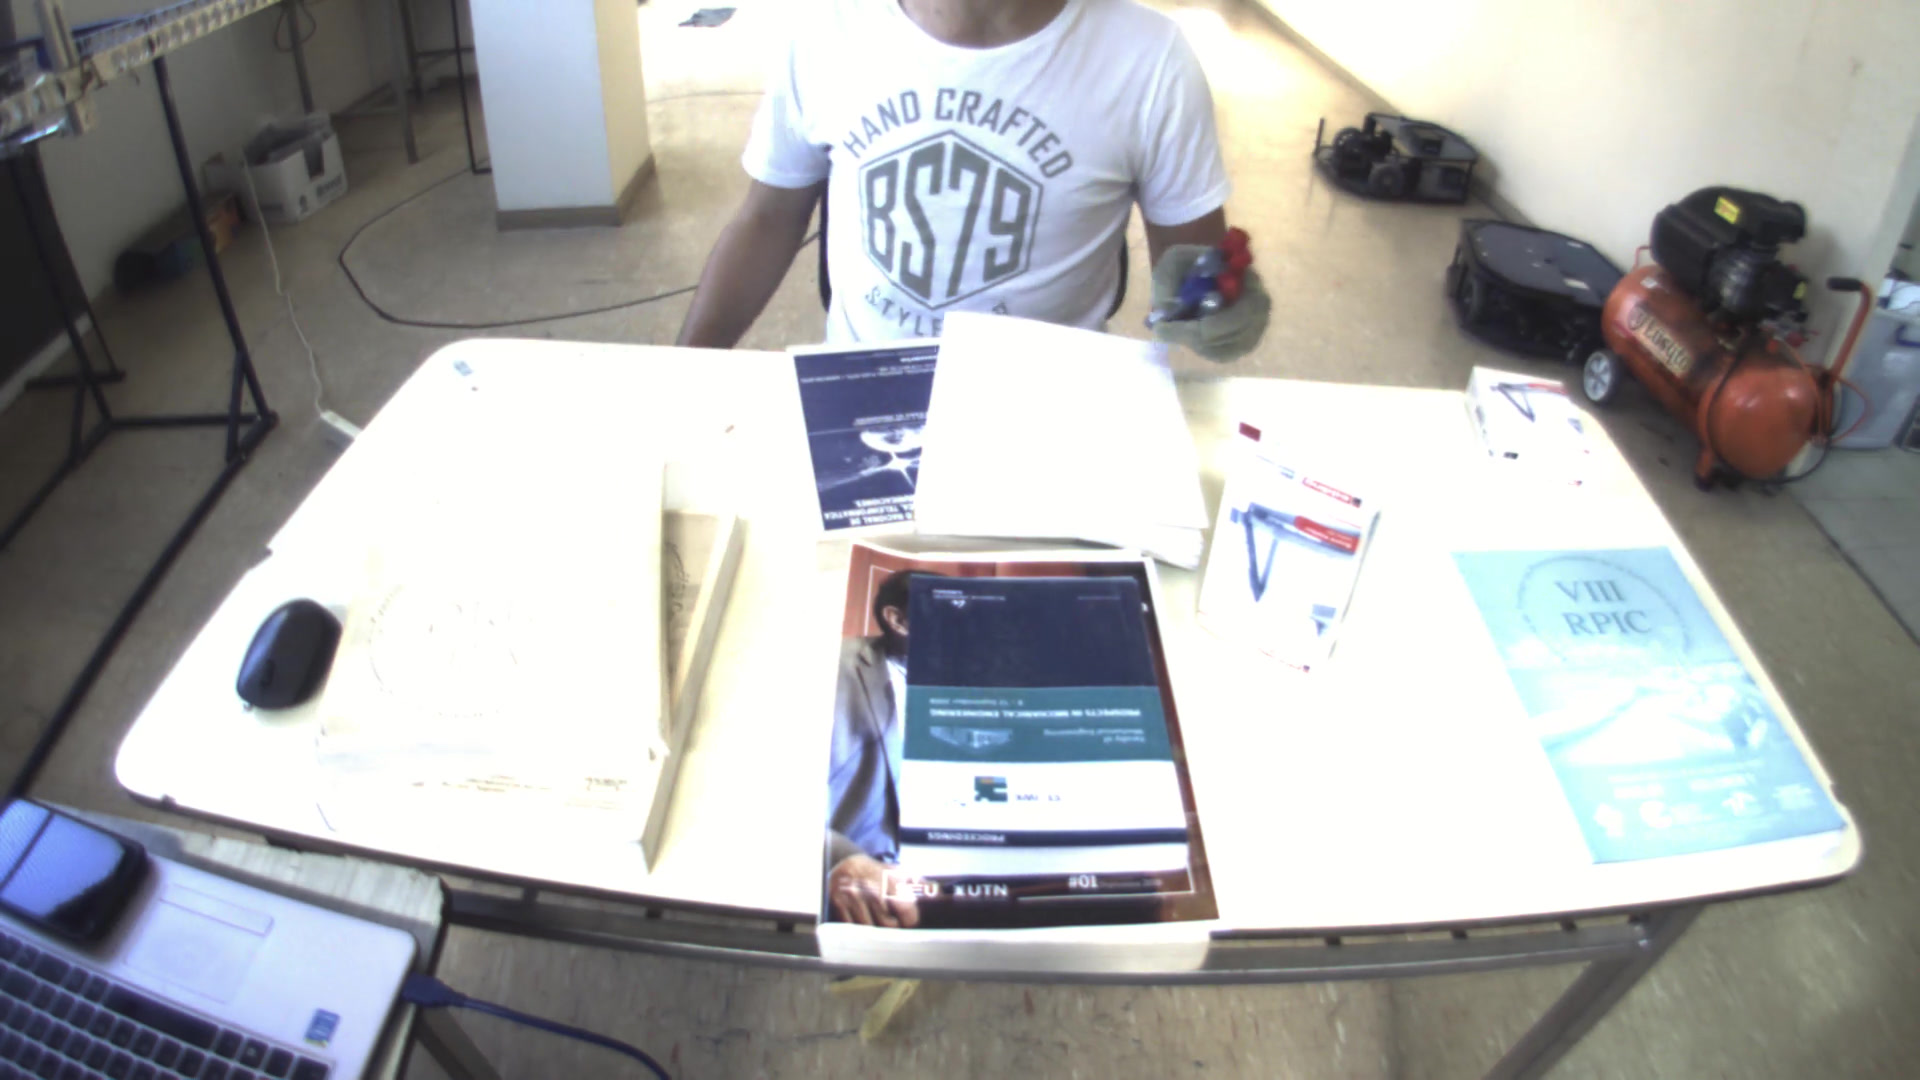hand: (1146, 237, 1279, 365)
